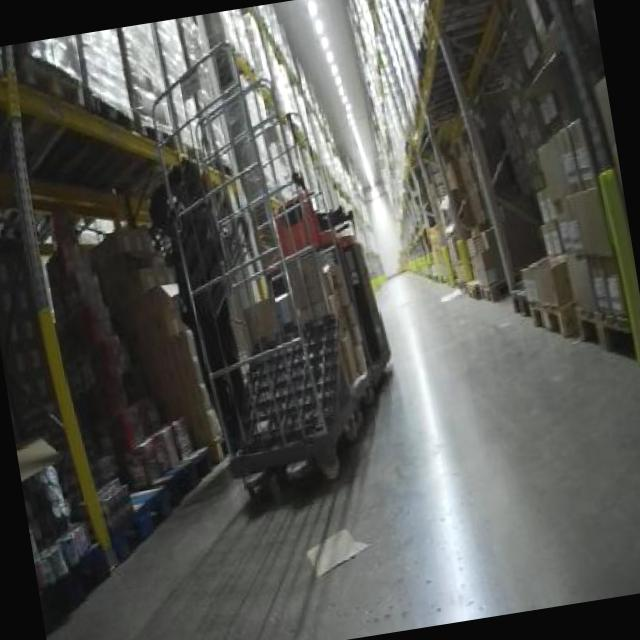pallet: (573, 296, 640, 366), (523, 299, 570, 347)
